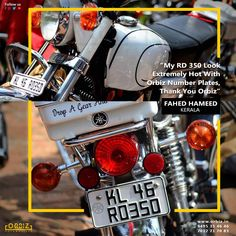doublelinenumberplate: (88, 177, 170, 228)
